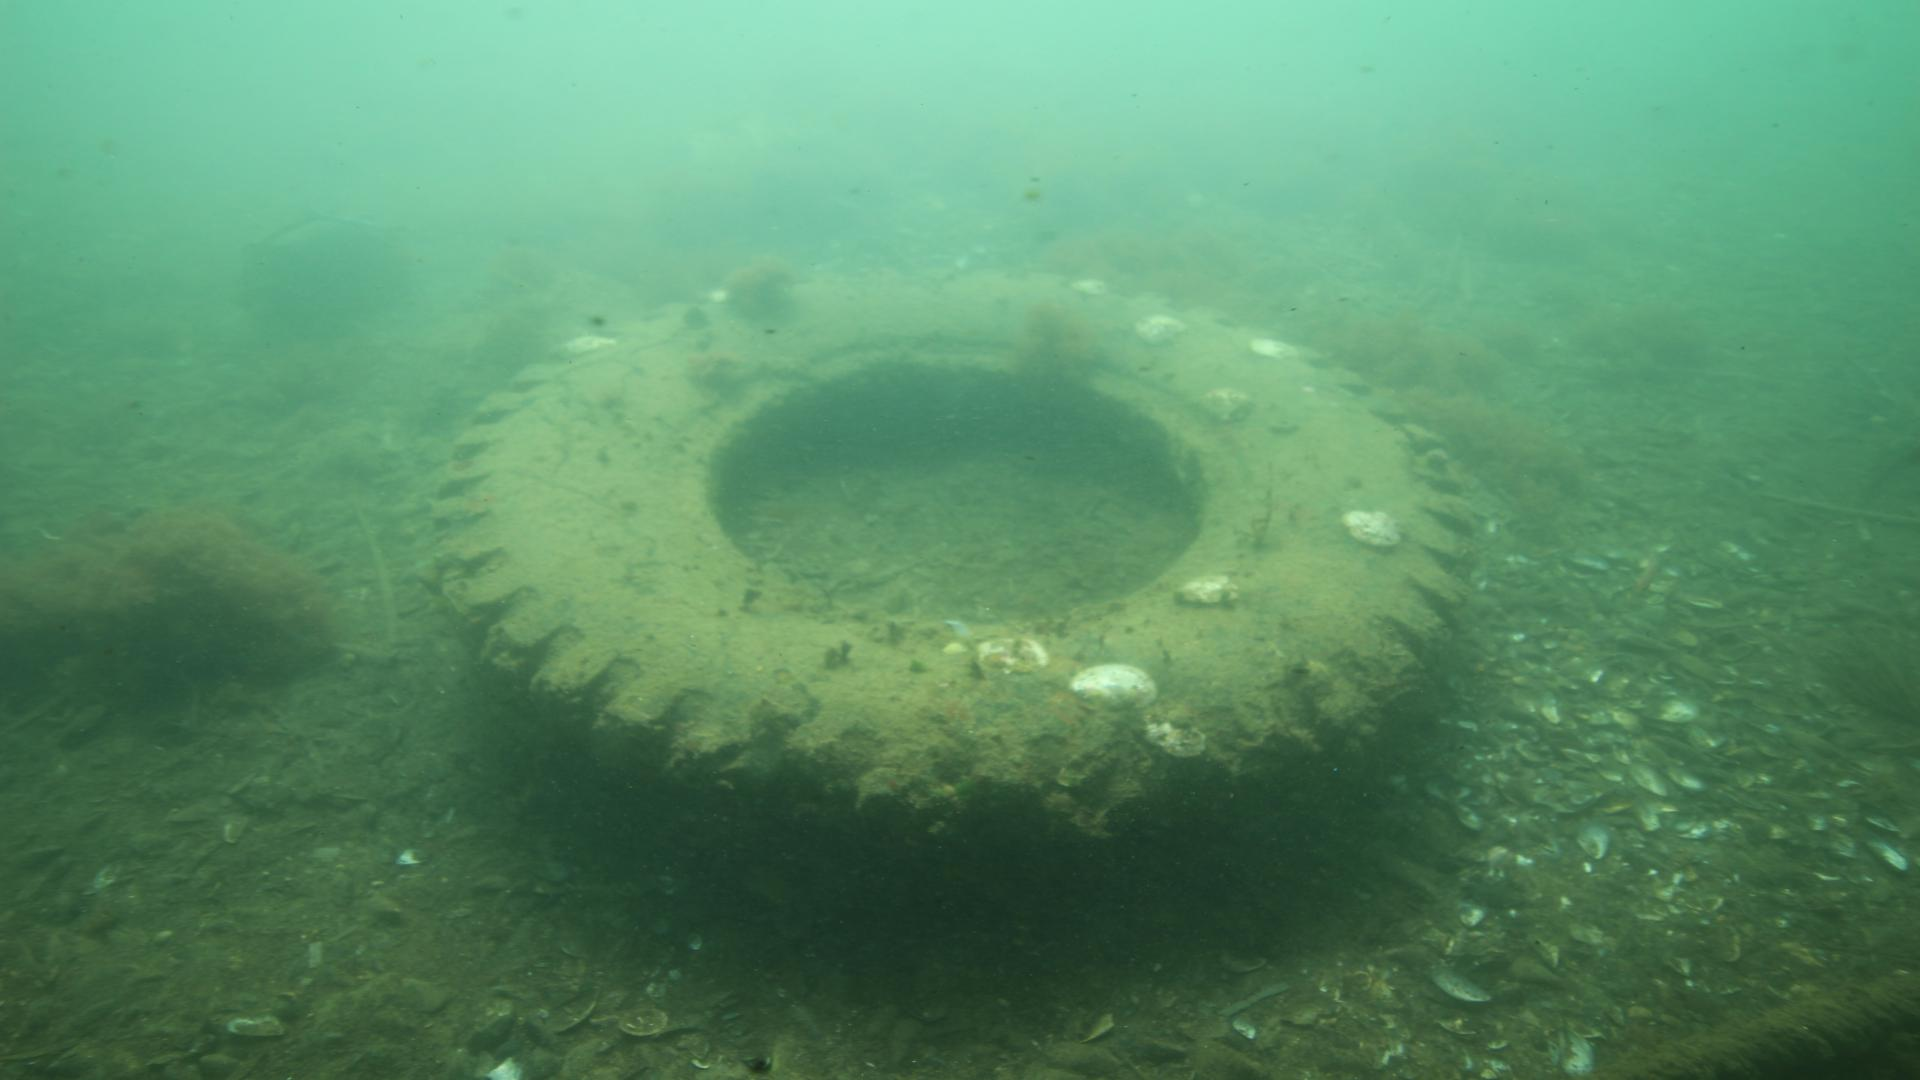rope: (1604, 971, 1917, 1077)
tire: (429, 266, 1481, 907)
